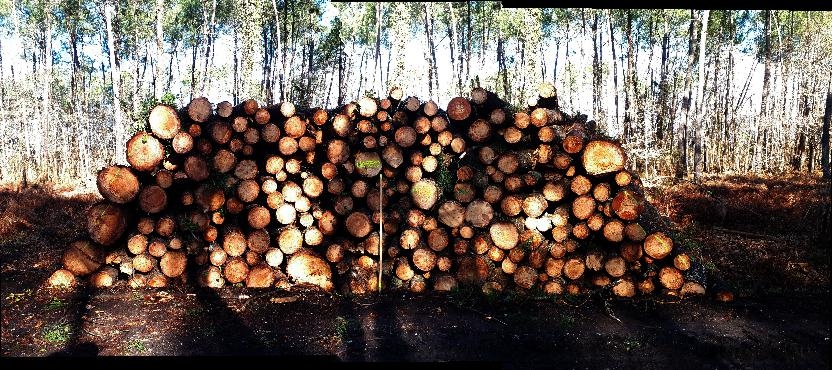etalon: (379, 172, 383, 285)
object: (83, 200, 131, 243), (285, 252, 335, 289), (582, 139, 626, 178), (125, 129, 165, 171), (94, 166, 140, 202), (63, 236, 103, 273), (148, 102, 181, 139), (612, 187, 646, 218), (456, 254, 487, 285), (489, 220, 521, 248), (408, 179, 438, 207), (464, 198, 494, 226), (139, 184, 168, 212), (195, 182, 225, 208), (644, 232, 674, 257), (354, 150, 382, 176), (437, 200, 466, 225), (184, 152, 210, 179), (187, 95, 213, 121), (44, 268, 76, 289), (245, 263, 274, 286), (346, 210, 372, 235), (159, 250, 185, 275), (196, 264, 224, 287), (212, 146, 236, 172), (278, 226, 302, 252), (222, 229, 246, 255), (326, 140, 350, 164), (247, 203, 271, 227), (86, 269, 116, 288), (209, 118, 232, 142), (512, 264, 536, 287), (382, 142, 404, 167), (447, 96, 470, 119), (224, 257, 247, 280), (468, 118, 492, 140), (236, 179, 260, 201), (572, 194, 594, 218), (250, 228, 270, 254), (318, 209, 340, 232), (658, 266, 682, 287), (542, 179, 564, 201), (366, 187, 388, 209), (234, 158, 256, 179), (522, 194, 544, 215), (187, 208, 209, 229), (603, 219, 625, 240), (620, 238, 642, 259), (604, 254, 626, 275), (428, 226, 448, 249), (565, 255, 585, 278), (623, 221, 647, 240), (612, 276, 636, 295), (680, 279, 708, 295), (340, 278, 366, 295), (332, 114, 353, 135), (284, 115, 306, 135), (395, 125, 417, 145), (452, 181, 474, 201), (500, 194, 522, 214), (332, 194, 353, 214), (126, 231, 146, 252), (414, 246, 434, 267), (432, 274, 460, 289), (496, 153, 518, 172), (520, 229, 542, 248), (131, 251, 155, 268), (357, 96, 377, 116), (303, 175, 323, 195), (399, 227, 419, 247), (584, 250, 604, 270), (172, 131, 192, 150), (278, 135, 298, 154), (532, 143, 552, 162), (265, 154, 285, 173), (280, 183, 301, 201), (713, 286, 735, 303), (262, 121, 280, 141), (562, 134, 582, 152), (570, 174, 590, 192), (276, 203, 294, 222), (366, 235, 384, 254), (470, 86, 488, 105), (544, 258, 564, 275), (482, 279, 502, 296), (531, 106, 547, 127), (590, 274, 612, 289), (477, 145, 495, 163), (505, 172, 523, 190), (136, 215, 154, 233), (304, 226, 322, 244), (469, 236, 487, 254), (185, 236, 203, 254), (326, 242, 344, 260), (326, 178, 346, 194), (483, 185, 503, 201), (542, 279, 562, 295), (161, 152, 179, 169), (157, 217, 175, 234), (368, 274, 386, 291), (638, 275, 654, 294), (172, 271, 192, 286), (278, 99, 296, 115), (536, 125, 554, 141), (350, 179, 368, 195), (593, 182, 609, 200), (266, 190, 282, 208), (406, 208, 422, 226), (266, 246, 282, 264), (209, 248, 227, 264), (527, 251, 545, 267), (148, 274, 170, 287), (375, 257, 394, 272), (218, 98, 232, 118), (414, 115, 430, 132), (197, 137, 214, 153), (422, 154, 438, 171), (456, 164, 472, 181), (118, 257, 134, 274), (539, 81, 555, 98), (298, 135, 316, 150), (396, 263, 414, 278), (423, 99, 439, 115), (490, 107, 506, 123), (312, 108, 328, 124), (513, 111, 529, 127), (432, 115, 448, 131), (504, 126, 520, 142), (322, 161, 338, 177), (615, 169, 631, 185), (226, 195, 242, 211), (202, 224, 218, 240), (149, 241, 165, 257), (487, 245, 503, 261), (674, 253, 690, 269), (500, 256, 516, 272), (452, 239, 470, 253), (243, 127, 259, 142), (284, 157, 300, 172), (294, 195, 310, 210), (572, 222, 588, 237), (552, 225, 568, 240), (343, 102, 357, 119), (509, 244, 523, 261), (127, 275, 145, 288), (243, 98, 259, 112), (392, 110, 408, 124), (233, 115, 247, 131), (346, 128, 360, 144), (450, 136, 464, 152), (474, 169, 488, 185), (586, 215, 602, 229), (357, 118, 371, 133), (406, 166, 420, 181), (397, 193, 411, 208), (244, 249, 258, 264), (406, 95, 420, 110), (304, 150, 320, 163), (552, 212, 568, 225), (255, 108, 269, 122), (437, 130, 451, 144), (554, 154, 568, 168), (384, 162, 398, 176), (262, 178, 276, 192), (422, 215, 436, 229), (384, 218, 398, 232), (550, 243, 564, 257), (193, 248, 207, 262), (359, 253, 373, 267), (439, 151, 452, 166), (459, 224, 474, 237), (604, 200, 616, 216), (107, 250, 123, 262), (410, 279, 426, 291), (362, 134, 376, 147), (174, 170, 188, 183), (524, 172, 538, 185), (212, 210, 226, 223), (277, 278, 291, 291), (566, 283, 580, 296), (314, 128, 326, 143), (342, 159, 354, 174), (438, 254, 450, 269), (336, 258, 348, 273), (513, 284, 529, 295), (189, 121, 201, 135), (418, 130, 430, 144), (461, 146, 473, 160), (410, 150, 422, 164), (376, 177, 390, 189), (538, 216, 550, 230), (660, 289, 680, 297), (429, 141, 441, 154), (392, 207, 404, 220), (524, 215, 536, 228), (629, 259, 641, 272), (390, 85, 402, 98), (169, 236, 183, 247), (492, 169, 504, 181), (396, 180, 408, 192), (372, 210, 384, 222), (300, 213, 312, 225), (563, 164, 575, 175), (386, 244, 398, 255), (389, 279, 401, 290), (582, 285, 594, 296), (379, 98, 391, 109), (230, 138, 240, 150), (275, 169, 287, 179), (565, 239, 575, 251), (377, 134, 387, 145), (182, 192, 192, 203), (180, 219, 190, 230), (340, 238, 350, 249), (526, 95, 537, 105), (536, 272, 548, 281), (380, 121, 390, 131), (485, 165, 495, 174), (384, 185, 394, 194), (451, 226, 461, 235), (644, 252, 654, 261), (646, 265, 656, 274), (378, 109, 386, 120), (243, 144, 251, 155), (497, 126, 505, 135), (421, 269, 430, 277), (313, 209, 321, 217), (300, 170, 308, 177), (371, 126, 377, 132), (597, 204, 603, 210)
pile: (34, 64, 742, 306)
